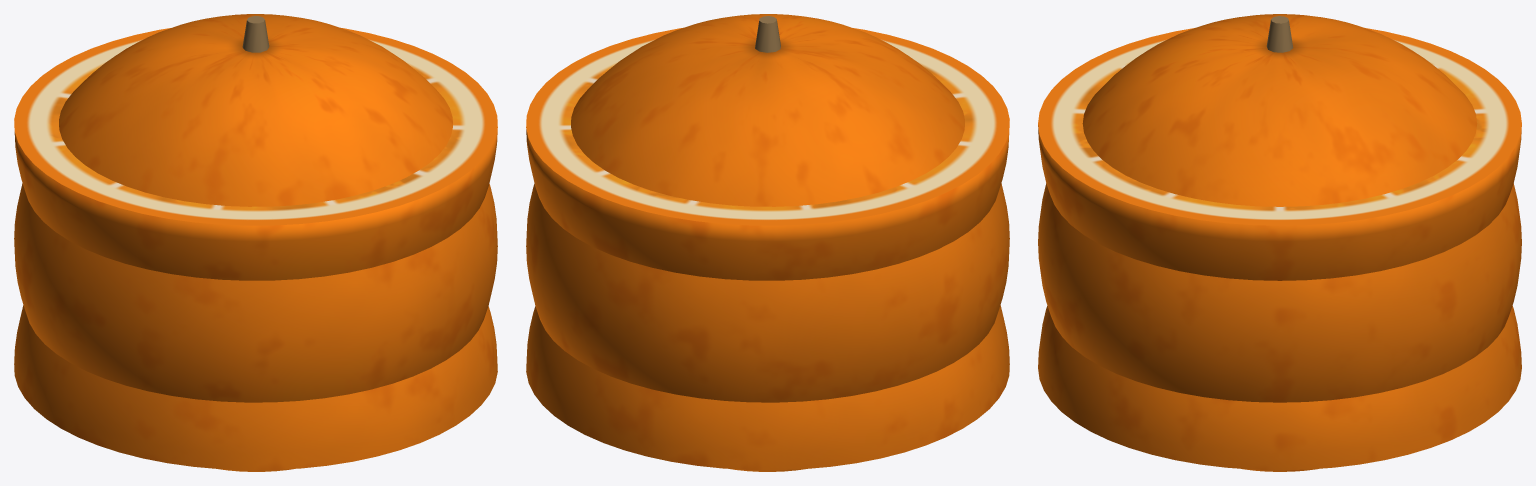
File: orange.glb
The picture shows the model from 3 angles, left to right: view 1: azimuth 30°, elevation 25°; view 2: azimuth 150°, elevation 25°; view 3: azimuth 270°, elevation 25°; orthographic projection.
Visible parts, largest first — view 1: whole, bot, top; view 2: whole, bot, top; view 3: whole, bot, top.
Part boxes in pixels (left/top/right/bottom): whole: left=14, top=14, right=497, bottom=471; bot: left=14, top=27, right=497, bottom=280; top: left=14, top=305, right=497, bottom=470; whole: left=526, top=14, right=1009, bottom=471; bot: left=526, top=27, right=1009, bottom=280; top: left=526, top=305, right=1009, bottom=470; whole: left=1038, top=14, right=1521, bottom=471; bot: left=1038, top=28, right=1521, bottom=280; top: left=1038, top=306, right=1521, bottom=470.
Bounding box in the file's own units: 0.64 × 0.616 × 0.64.
Materials: 3 (2 with a texture image).
